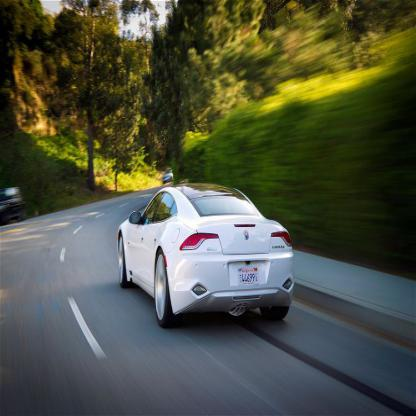Vehicle: (115, 178, 296, 332)
